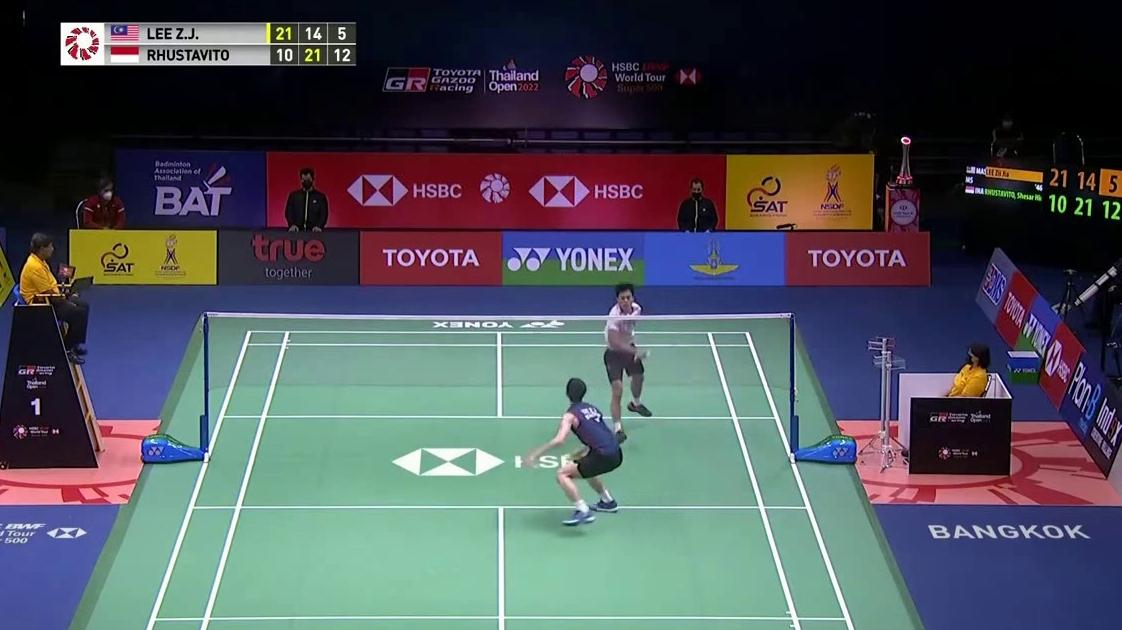racket: (629, 339, 687, 364), (559, 446, 601, 466)
shuttle: (549, 316, 563, 328)
